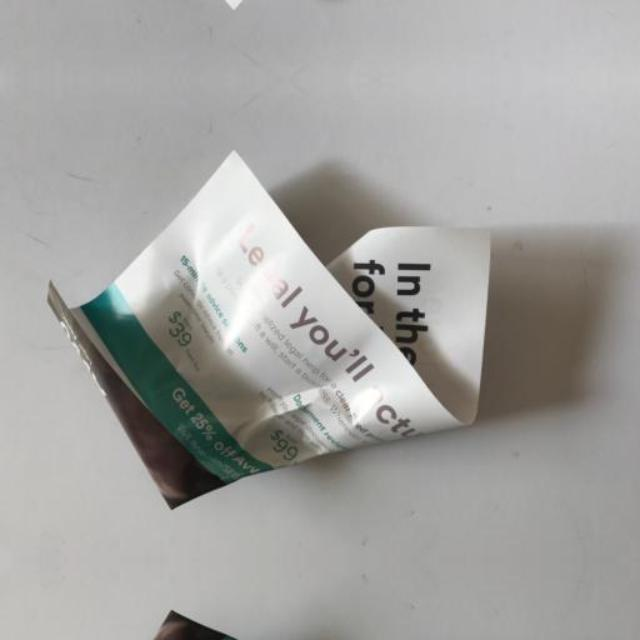paper: (42, 137, 518, 523), (42, 597, 517, 640), (42, 0, 517, 23)
